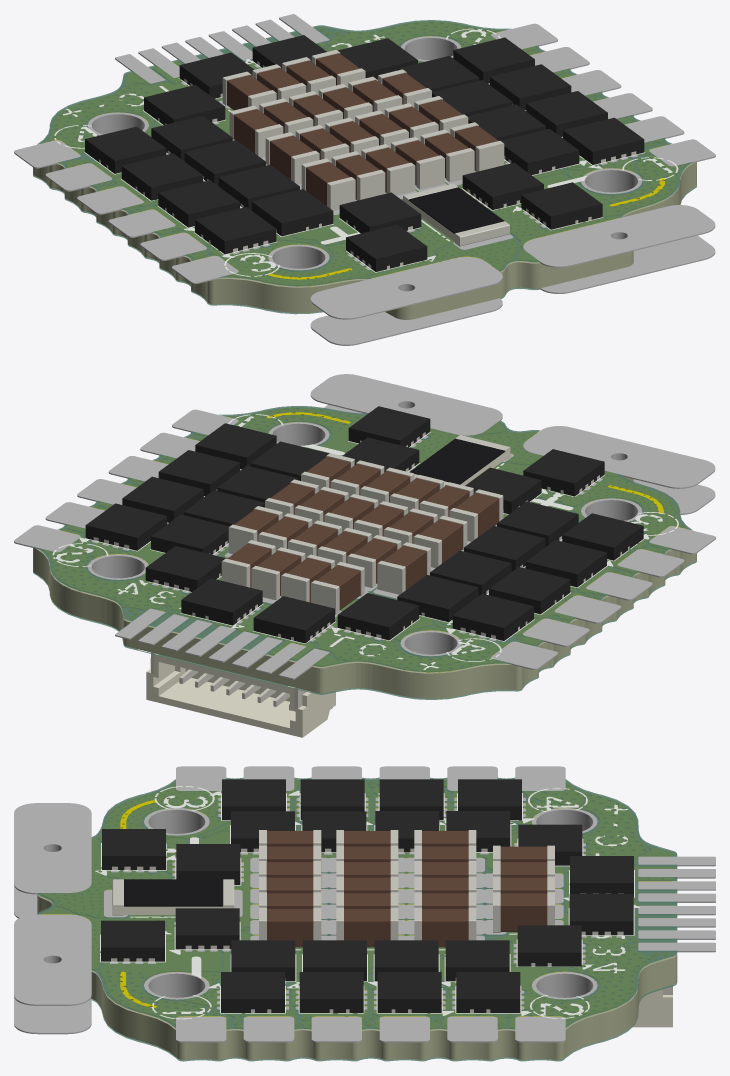
Rendered from board.glb.
The picture shows the model from 3 angles, top to bottom: view 1: azimuth 30°, elevation 25°; view 2: azimuth 150°, elevation 25°; view 3: azimuth 270°, elevation 25°; orthographic projection. The views are drawn at different scales.
Parts seen in each view (by area): view 1: Diodes-PowerDI3333-8 (×24), board_pad, C_1206_3216Metric (×22), board_soldermask (×2), board_copper, board_PCB, R_2512_6332Metric, board_silkscreen, board_via; view 2: Diodes-PowerDI3333-8 (×24), board_pad, C_1206_3216Metric (×22), board_soldermask (×2), board_PCB, board_copper, JST_SH_SM08B-SRSS-TB_1x08-1MP_P1.00mm_Horizontal, board_silkscreen, R_2512_6332Metric, board_via; view 3: Diodes-PowerDI3333-8 (×24), board_pad, board_soldermask (×2), C_1206_3216Metric (×22), board_copper, board_PCB, board_silkscreen, R_2512_6332Metric, board_via, JST_SH_SM08B-SRSS-TB_1x08-1MP_P1.00mm_Horizontal.
Boxes of the visible parts, x1,y1,x2,y2 form: Diodes-PowerDI3333-8 (×24): (85,35,644,271); board_pad: (14,14,715,345); C_1206_3216Metric (×22): (222,50,504,210); board_soldermask (×2): (33,20,696,314); board_copper: (44,22,686,312); board_PCB: (33,27,696,319); R_2512_6332Metric: (403,183,509,246); board_silkscreen: (54,28,678,276); board_via: (47,22,680,284); Diodes-PowerDI3333-8 (×24): (85,406,643,643); board_pad: (14,374,715,679); C_1206_3216Metric (×22): (221,453,503,614); board_soldermask (×2): (33,406,696,699); board_PCB: (33,413,696,698); board_copper: (42,408,685,698); JST_SH_SM08B-SRSS-TB_1x08-1MP_P1.00mm_Horizontal: (146,652,335,737); board_silkscreen: (52,414,678,669); R_2512_6332Metric: (409,435,510,486); board_via: (48,408,682,669); Diodes-PowerDI3333-8 (×24): (101,779,633,1012); board_pad: (14,766,715,1042); board_soldermask (×2): (37,777,677,1061); C_1206_3216Metric (×22): (259,830,554,947); board_copper: (41,780,672,1028); board_PCB: (37,780,677,1059); board_silkscreen: (95,786,639,1019); R_2512_6332Metric: (112,879,234,915); board_via: (50,781,669,1025); JST_SH_SM08B-SRSS-TB_1x08-1MP_P1.00mm_Horizontal: (632,985,672,1027).
Size of the model in its own units: 0.0335 by 0.00633 by 0.0362.
